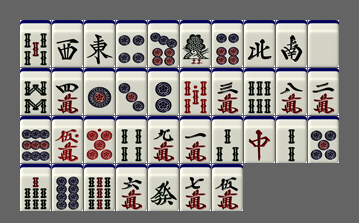0m: (52, 116, 83, 163)
0p: (84, 116, 115, 163)
0s: (180, 68, 211, 115)
1m: (180, 116, 211, 163)
1p: (84, 68, 115, 115)
1s: (180, 20, 211, 67)
1z: (84, 20, 115, 67)
2m: (308, 68, 339, 115)
2p: (148, 68, 179, 115)
2s: (276, 116, 307, 163)
2z: (276, 20, 307, 67)
3m: (212, 68, 243, 115)
3p: (116, 68, 147, 115)
3s: (212, 116, 243, 163)
3z: (52, 20, 83, 67)
4m: (52, 68, 83, 115)
4p: (116, 20, 147, 67)
4s: (116, 116, 147, 163)
4z: (244, 20, 275, 67)
5m: (212, 164, 243, 211)
5p: (308, 116, 339, 163)
5s: (20, 20, 51, 67)
5z: (308, 20, 339, 67)
6m: (116, 164, 147, 211)
6p: (212, 20, 243, 67)
6s: (244, 68, 275, 115)
6z: (148, 164, 179, 211)
7m: (180, 164, 211, 211)
7p: (148, 20, 179, 67)
7s: (20, 164, 51, 211)
7z: (244, 116, 275, 163)
8m: (276, 68, 307, 115)
8p: (52, 164, 83, 211)
8s: (20, 68, 51, 115)
9m: (148, 116, 179, 163)
9p: (20, 116, 51, 163)
9s: (84, 164, 115, 211)
